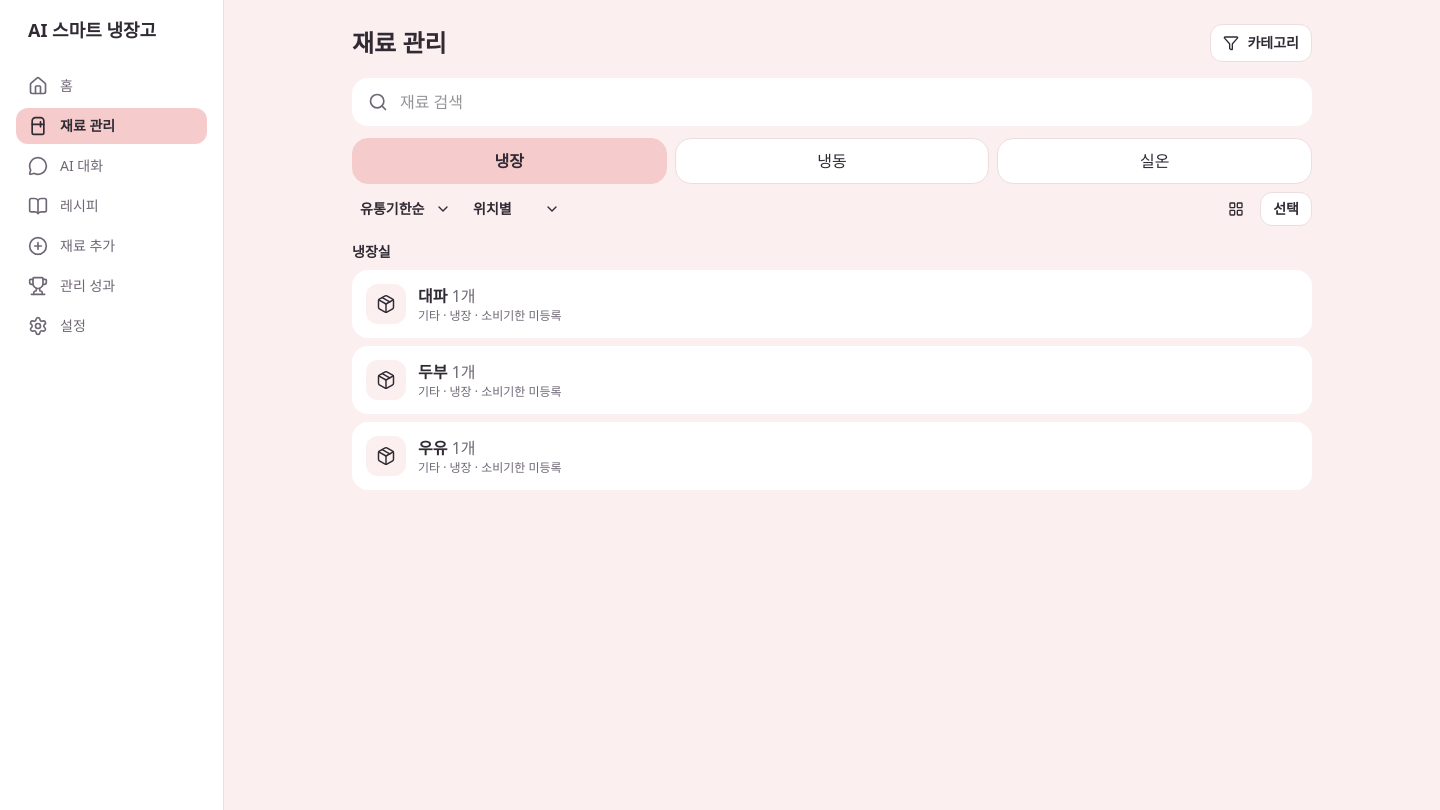
Test: 여러 재료 선택 › 선택한 재료만 확인 후 삭제하고, 되돌리기로 모두 복구한다
The width and height of the screenshot is (1440, 810).
Expected: the link "우유 1개 기타 · 냉장 · 소비기한 미등록" is shown, [352,422,1312,490]
What coordinates should you click on to do the following:
click the button "선택"
I would click on:
 (1286, 209)
Its box is [1260,192,1312,226].
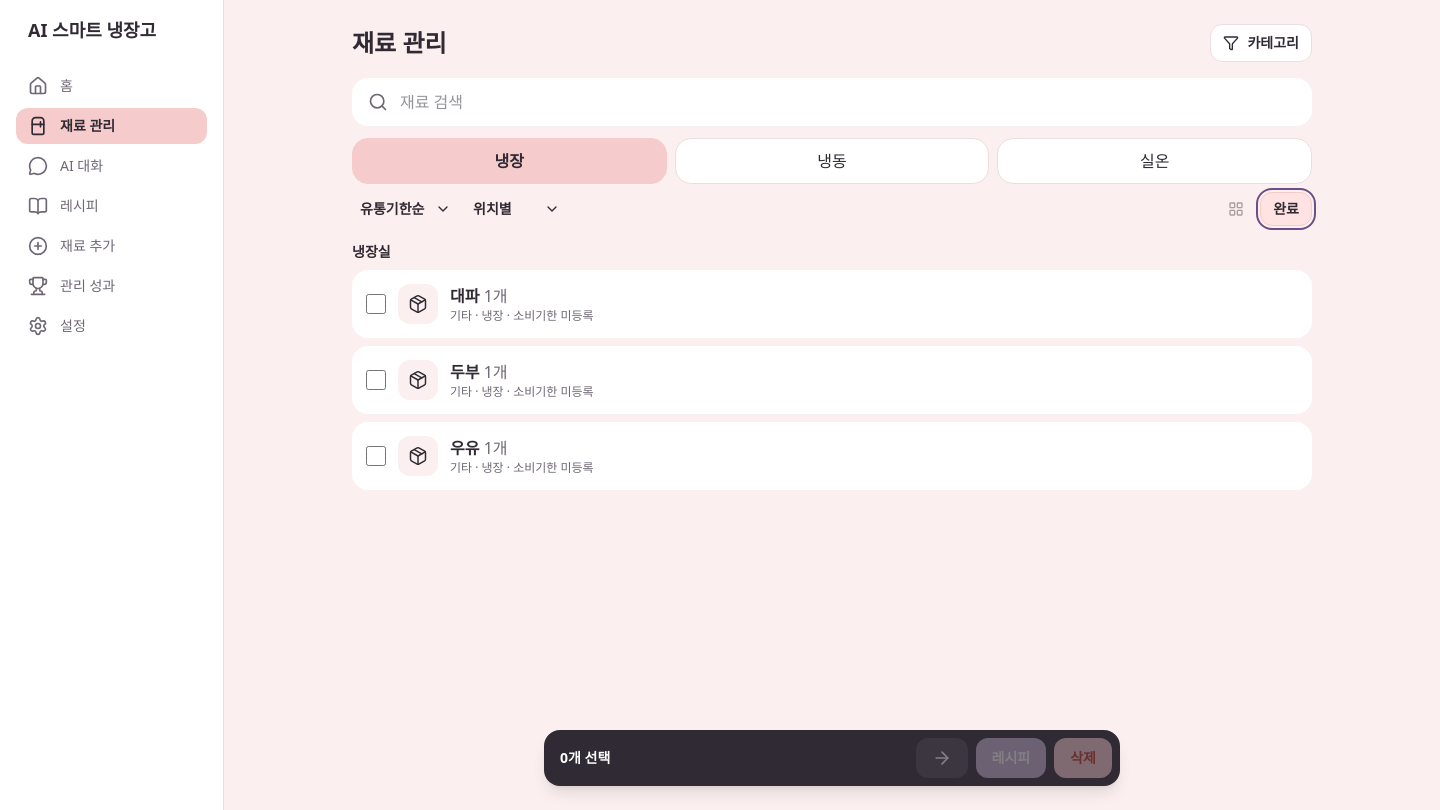
What coordinates should you click on to do the following:
click the checkbox labelled "우유 1개 기타 · 냉장 · 소비기한 미등록"
I would click on:
 (376, 456)
Its box is [366,446,386,466].
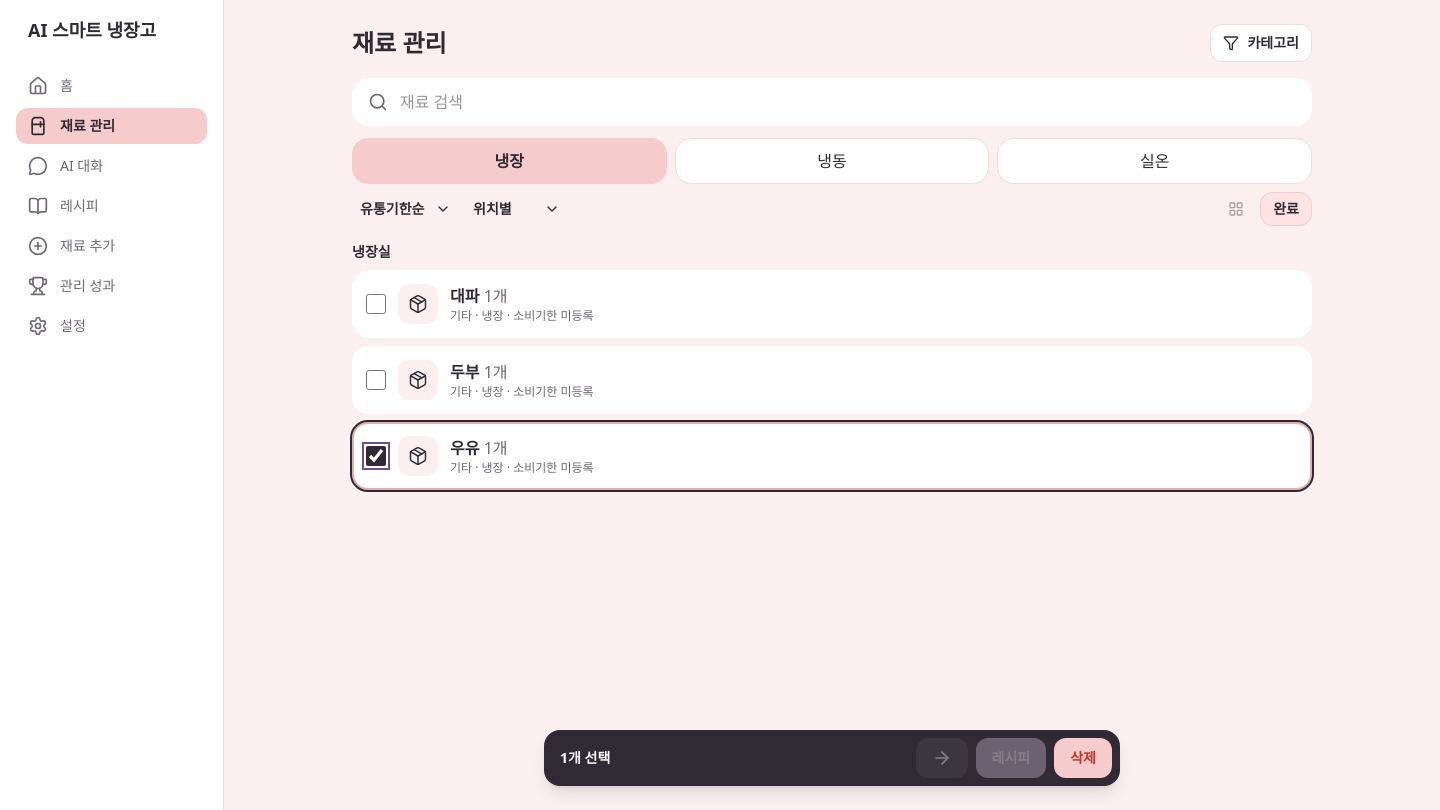
What coordinates should you click on to do the following:
click the checkbox labelled "두부 1개 기타 · 냉장 · 소비기한 미등록"
I would click on:
 (376, 380)
Its box is [366,370,386,390].
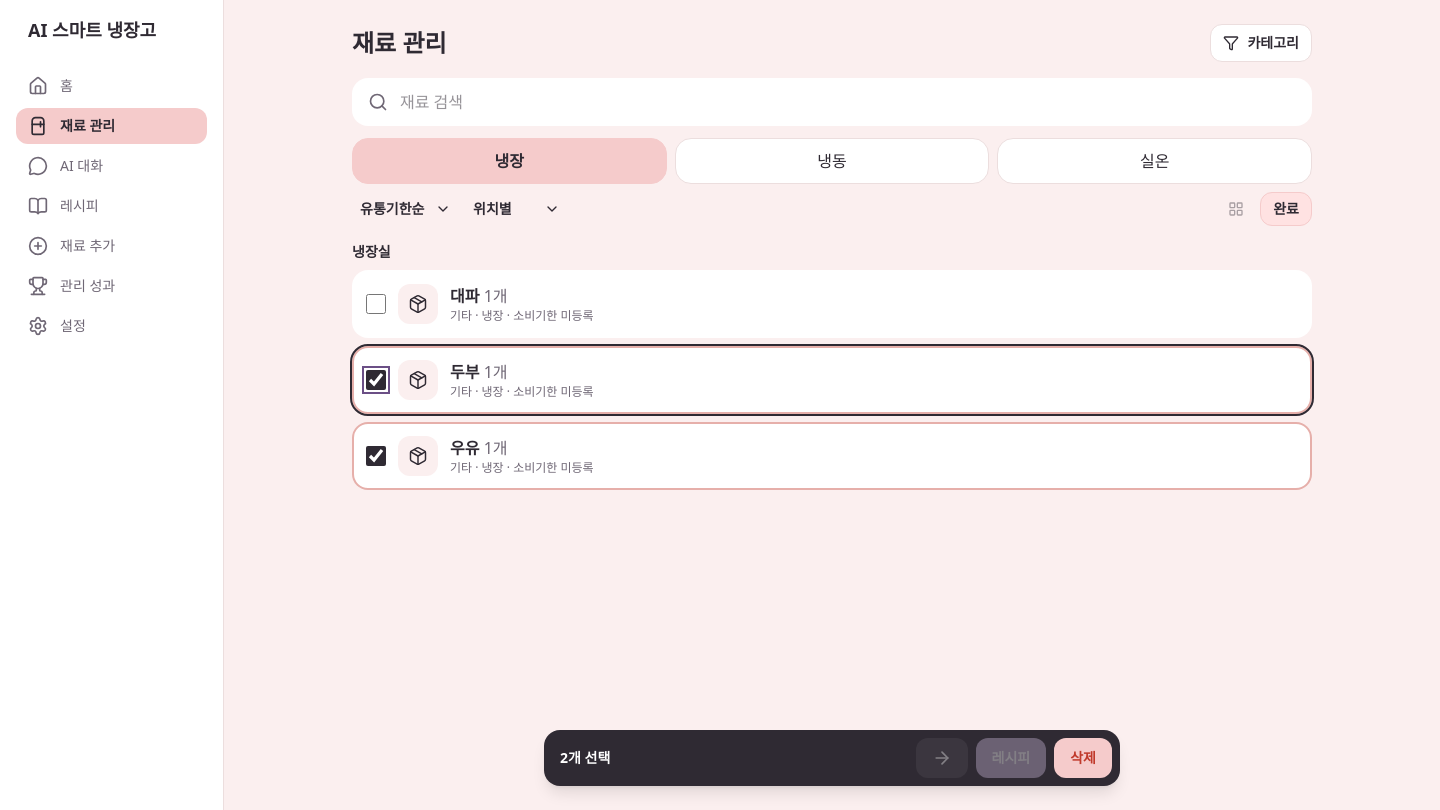
Expected: the message reads "2개 선택", [560,748,610,767]
What coordinates should you click on to do the following:
click the button "삭제"
I would click on:
 (1083, 758)
Its box is [1054,738,1112,778].
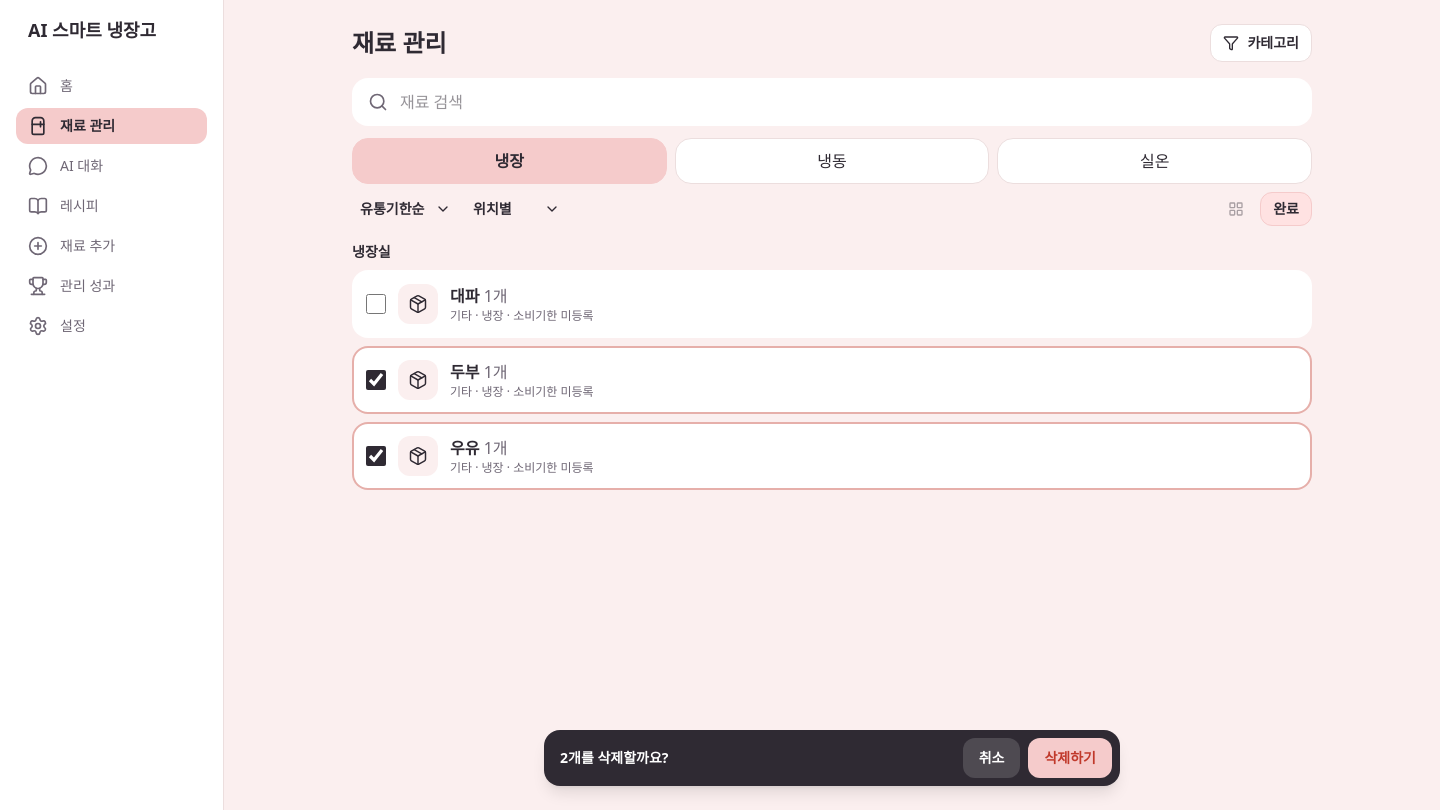
Expected: the message reads "2개를 삭제할까요?", [560,748,668,767]
What coordinates should you click on to do the following:
click the button "삭제하기"
I would click on:
 (1070, 758)
Its box is [1028,738,1112,778].
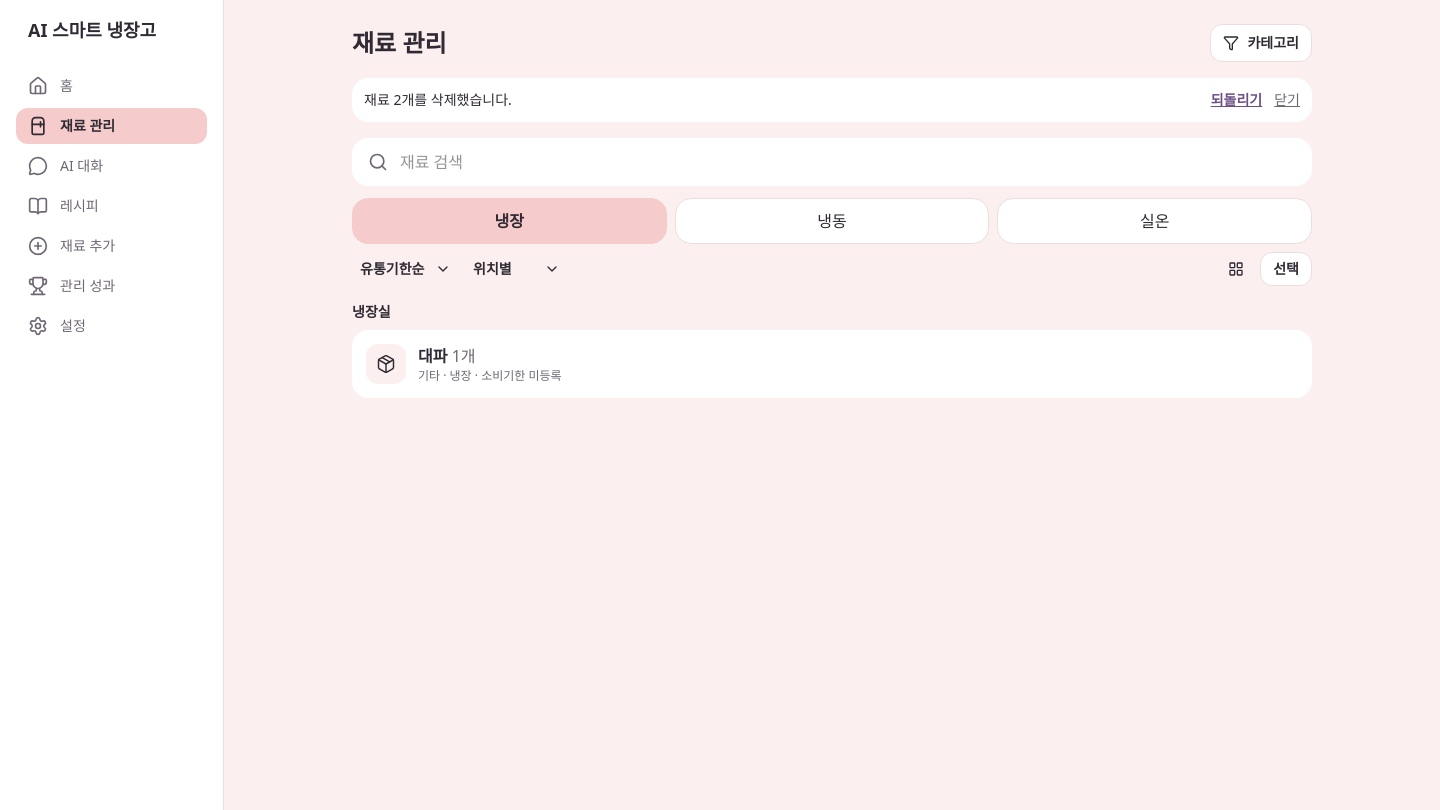
Expected: the link "대파 1개 기타 · 냉장 · 소비기한 미등록" is shown, [352,330,1312,398]
Expected: the text "재료 2개를 삭제했습니다." is shown, [364,90,512,109]
Expected: the text "우유" is gone
What coordinates should you click on to do the following:
click the button "되돌리기"
I would click on:
 (1236, 100)
Its box is [1211,90,1262,110].
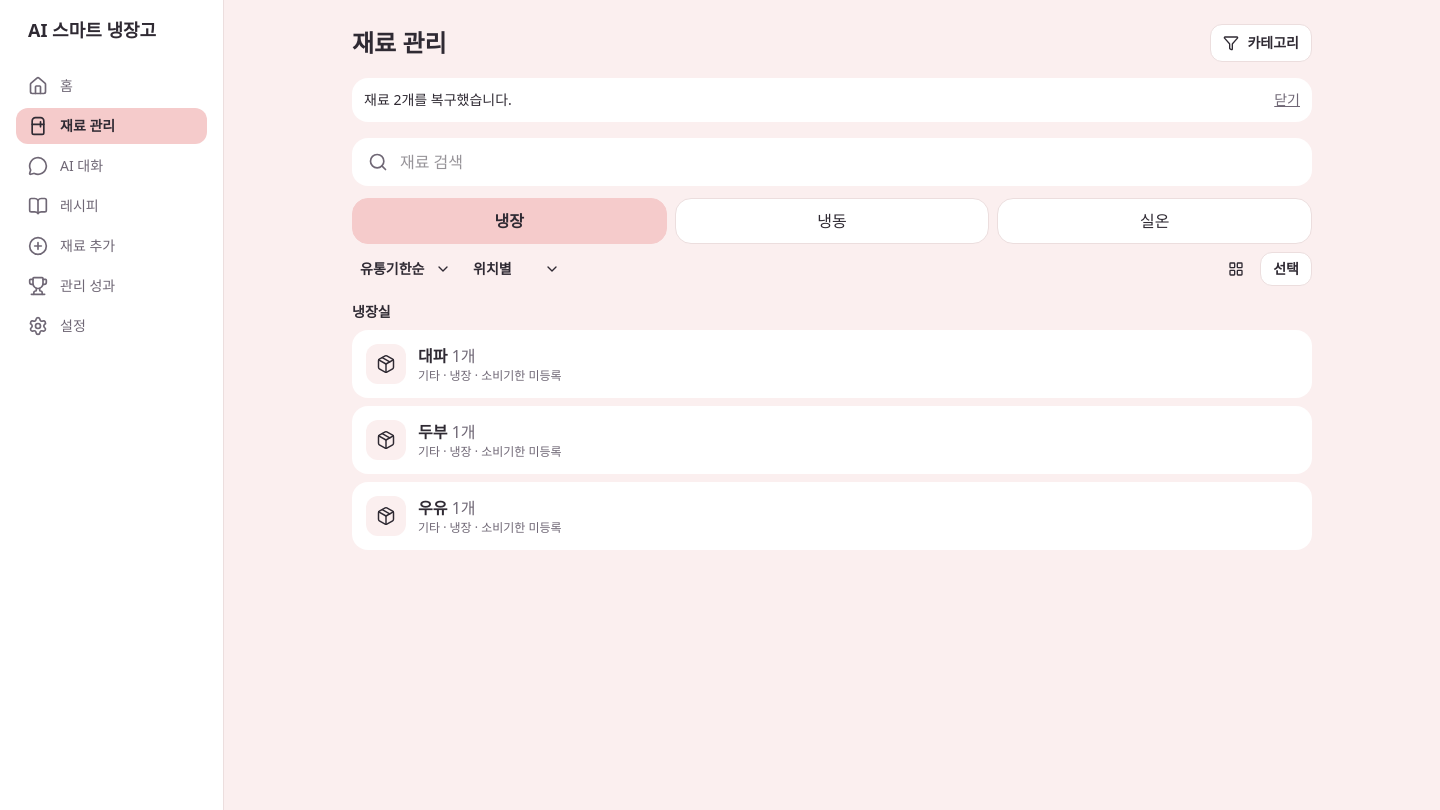
Expected: the text "재료 2개를 복구했습니다." is shown, [364,90,512,109]
Expected: the link "우유 1개 기타 · 냉장 · 소비기한 미등록" is shown, [352,482,1312,550]
